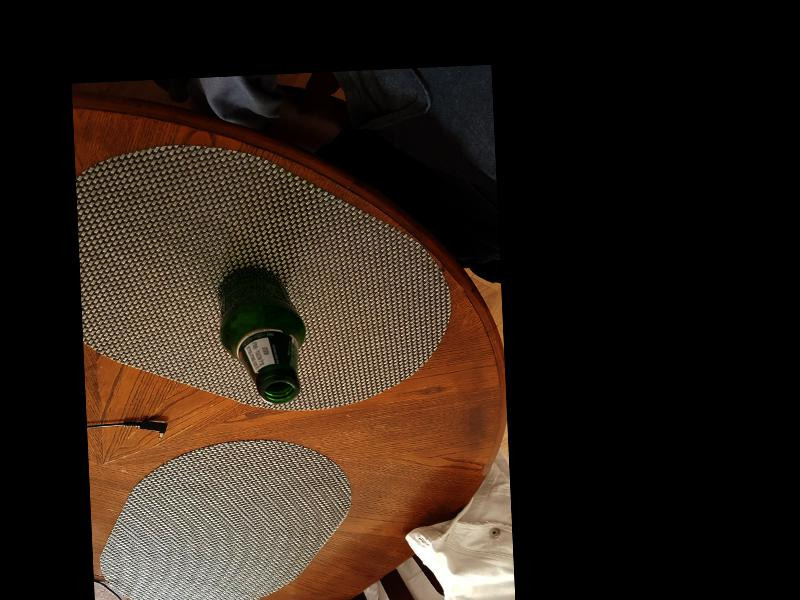Beer: (218, 264, 309, 404)
